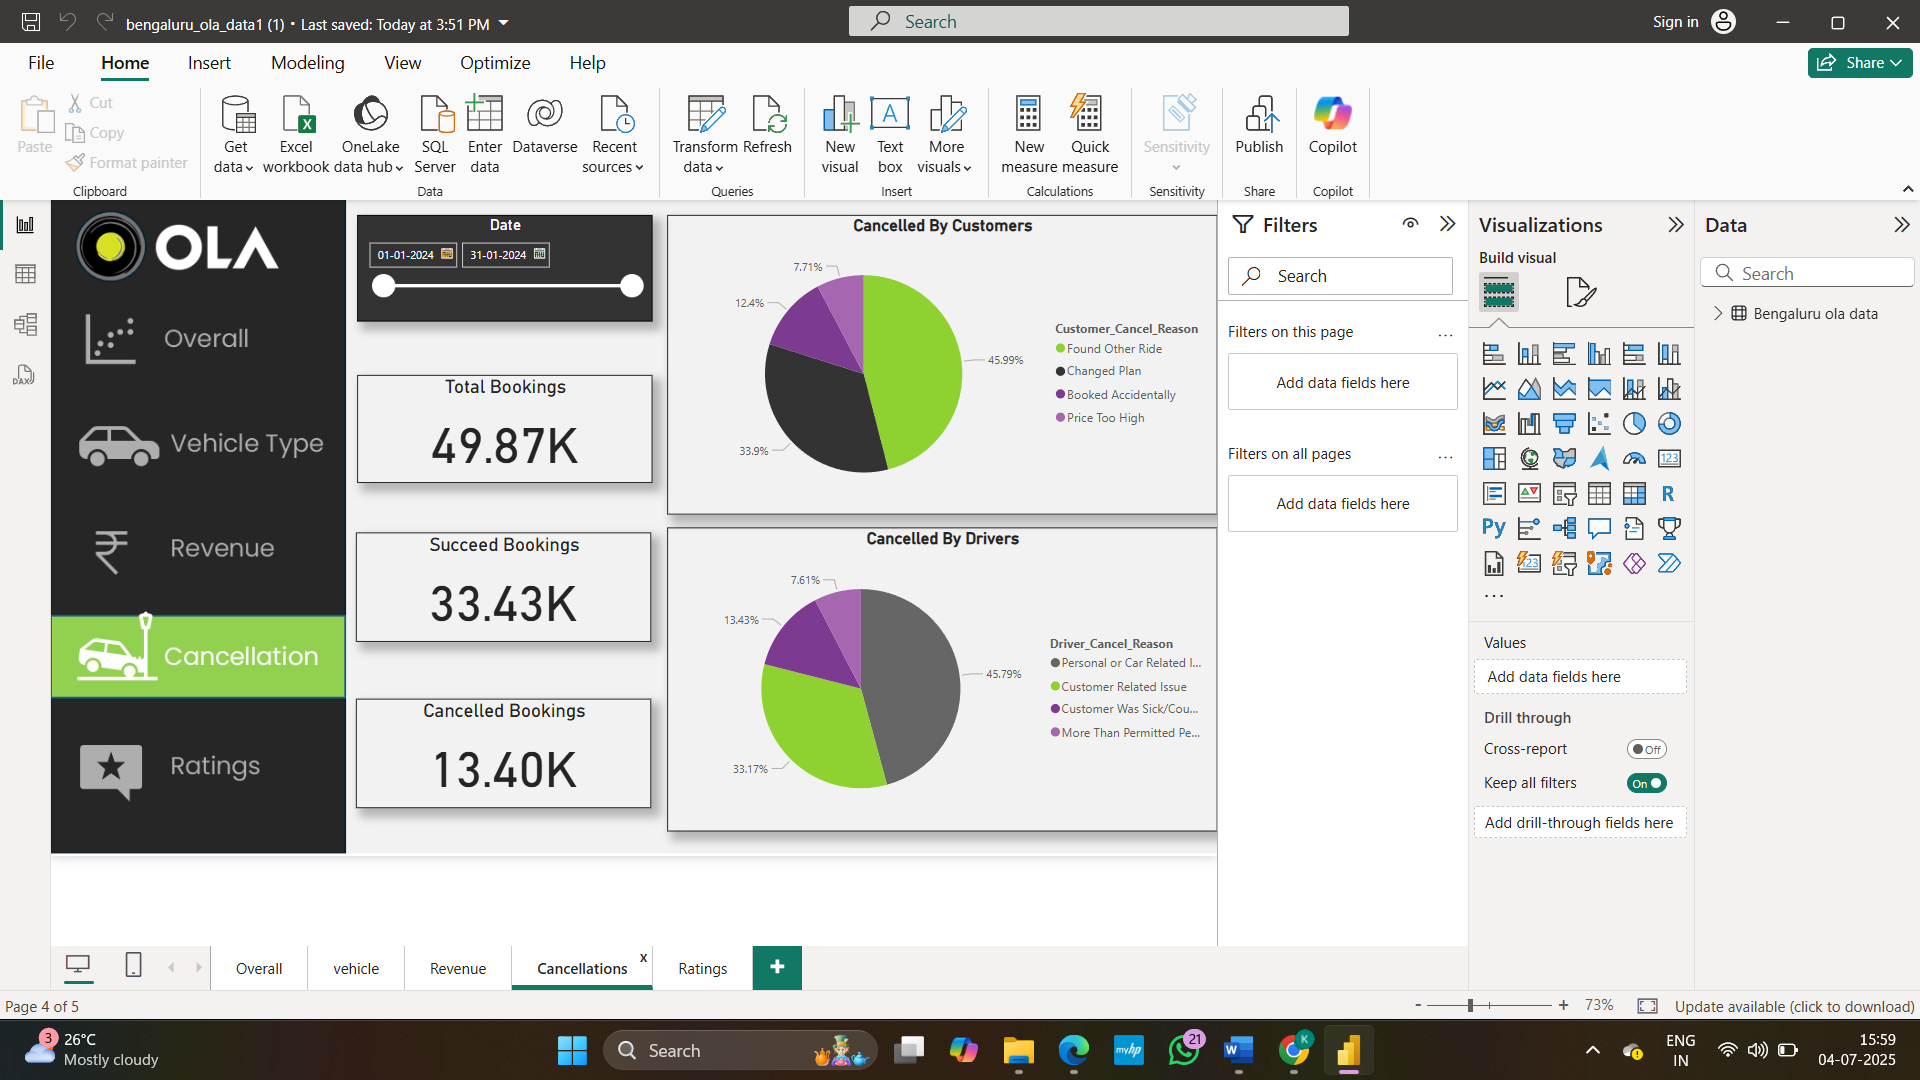

This screenshot's page, from the dashboard's own definition file:
{"tool":"powerbi","page":{"name":"Cancellations","canvas":[1280,720],"ordinal":3},"visuals":[{"type":"actionButton","box":[0,344.4,323.8,81],"z":0},{"type":"actionButton","box":[0,585.9,323.8,81],"z":1000},{"type":"actionButton","box":[0,231.9,323.8,81],"z":2000},{"type":"actionButton","box":[0,109.8,323.8,81],"z":3000},{"type":"pieChart","title":"Cancelled By Customers","fields":{"Category":["Bengaluru ola data.Customer_Cancel_Reason"],"Y":["CountNonNull(Bengaluru ola data.Customer_Cancel_Reason)"]},"box":[676.2,16.2,604,328.8],"z":4000},{"type":"pieChart","title":"Cancelled By Drivers","fields":{"Category":["Bengaluru ola data.Driver_Cancel_Reason"],"Y":["CountNonNull(Bengaluru ola data.Driver_Cancel_Reason)"]},"box":[676.2,359.9,604,333.8],"z":5000},{"type":"card","title":"Total Bookings","fields":{"Values":["Count(Bengaluru ola data.Booking ID)"]},"box":[336.2,191.9,323.9,118.2],"z":6000},{"type":"card","title":"Succeed Bookings","fields":{"Values":["Count(Bengaluru ola data.Booking ID)"]},"box":[334.7,365.4,323.9,119.7],"z":7000},{"type":"card","title":"Cancelled Bookings","fields":{"Values":["Count(Bengaluru ola data.Booking ID)"]},"box":[334.7,548,323.9,119.7],"z":8000},{"type":"slicer","title":"Date","fields":{"Values":["Bengaluru ola data.Date"]},"box":[336.2,16.5,323.8,116.6],"z":9000}]}

Visuals, with their boxes on the page's 1280x720 design canvas (x1, y1, x2, y2). These are canvas units, not pixel positions in the 1920x1080 screenshot, which may show the page scaled, cropped or inside an application window:
actionButton: 0/344/324/425
actionButton: 0/586/324/667
actionButton: 0/232/324/313
actionButton: 0/110/324/191
"Cancelled By Customers" pieChart: 676/16/1280/345
"Cancelled By Drivers" pieChart: 676/360/1280/694
"Total Bookings" card: 336/192/660/310
"Succeed Bookings" card: 335/365/659/485
"Cancelled Bookings" card: 335/548/659/668
"Date" slicer: 336/16/660/133
